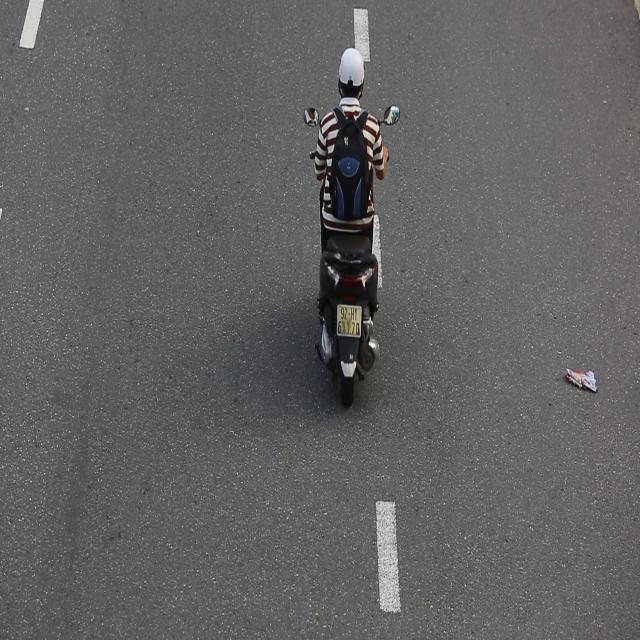motorbike: (296, 44, 406, 425)
